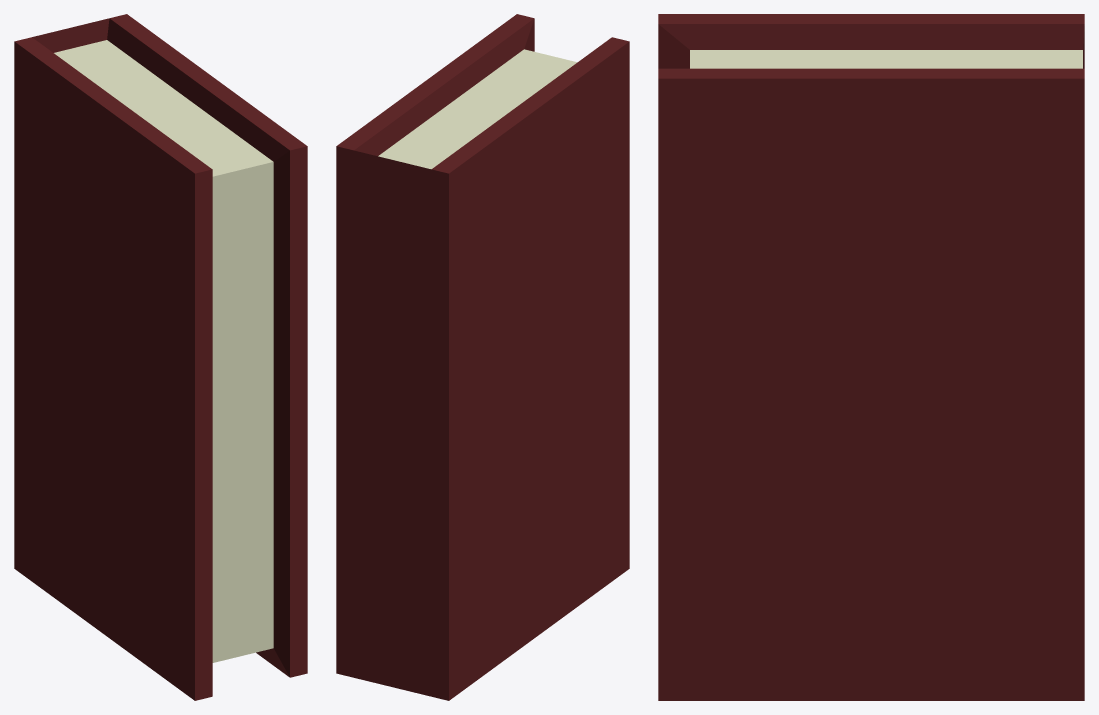
Rendered from Kitap.fbx.
The picture shows the model from 3 angles, left to right: view 1: azimuth 30°, elevation 25°; view 2: azimuth 150°, elevation 25°; view 3: azimuth 270°, elevation 25°; orthographic projection. The views are drawn at different scales.
Visible parts, largest first — view 1: Kap, Sayfalar; view 2: Kap, Sayfalar; view 3: Kap, Sayfalar.
Part boxes in pixels (x1,y1,x2,y2): Kap: (14, 14, 307, 700); Sayfalar: (54, 40, 273, 662); Kap: (336, 14, 629, 700); Sayfalar: (378, 49, 576, 169); Kap: (658, 14, 1084, 700); Sayfalar: (690, 50, 1082, 68).
Size of the model in its own units: 143 by 642 by 399.
